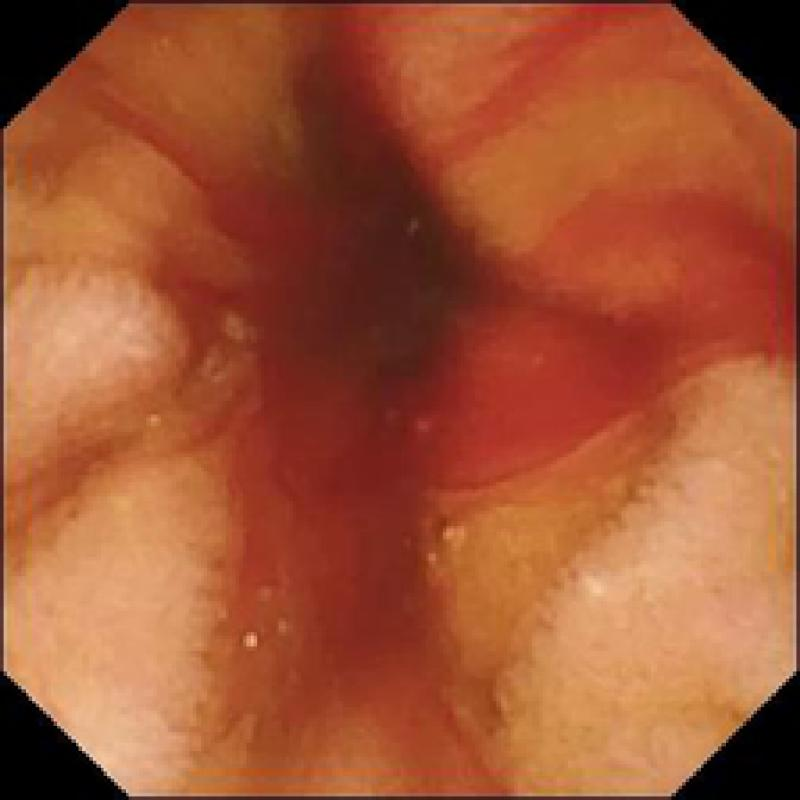bleeding: (107, 0, 800, 800)
